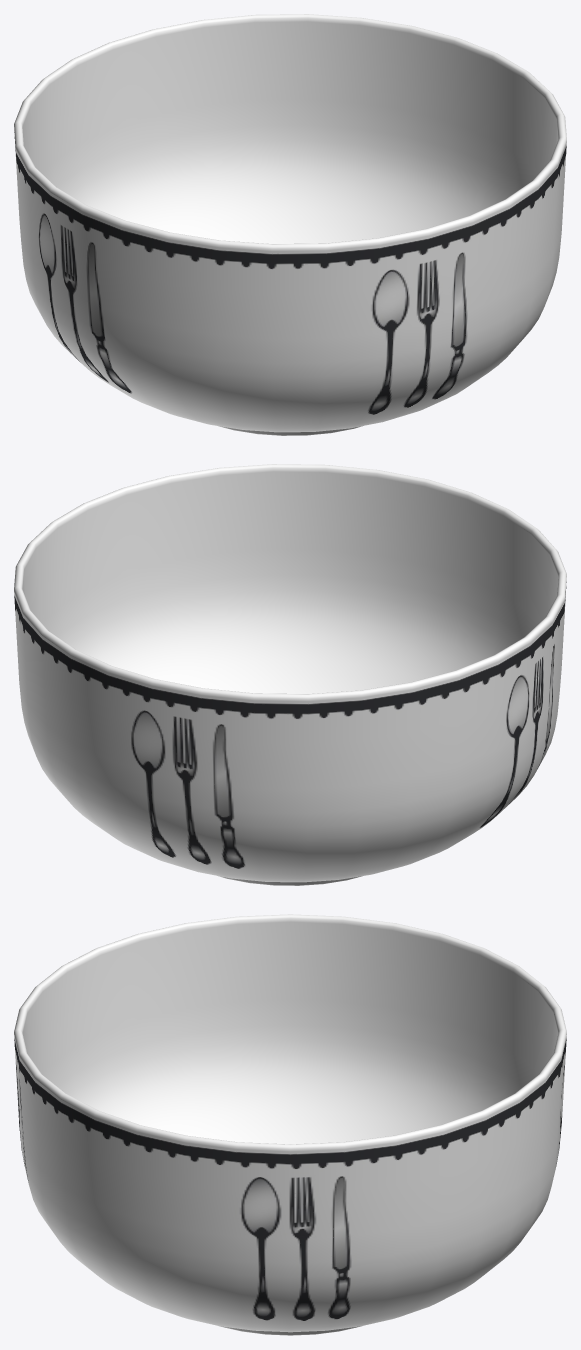
The model's file is bowl_1.glb.
The picture shows the model from 3 angles, top to bottom: view 1: azimuth 30°, elevation 25°; view 2: azimuth 150°, elevation 25°; view 3: azimuth 270°, elevation 25°; orthographic projection.
Visible parts, largest first — view 1: Bowl; view 2: Bowl; view 3: Bowl.
Part boxes in pixels (box(x1,y1,x2,y2)): Bowl: box(14, 14, 566, 435); Bowl: box(14, 464, 566, 885); Bowl: box(14, 914, 566, 1335).
Size of the model in its own units: 0.1302 by 0.0657 by 0.1302.
1 material, 1 textured.
